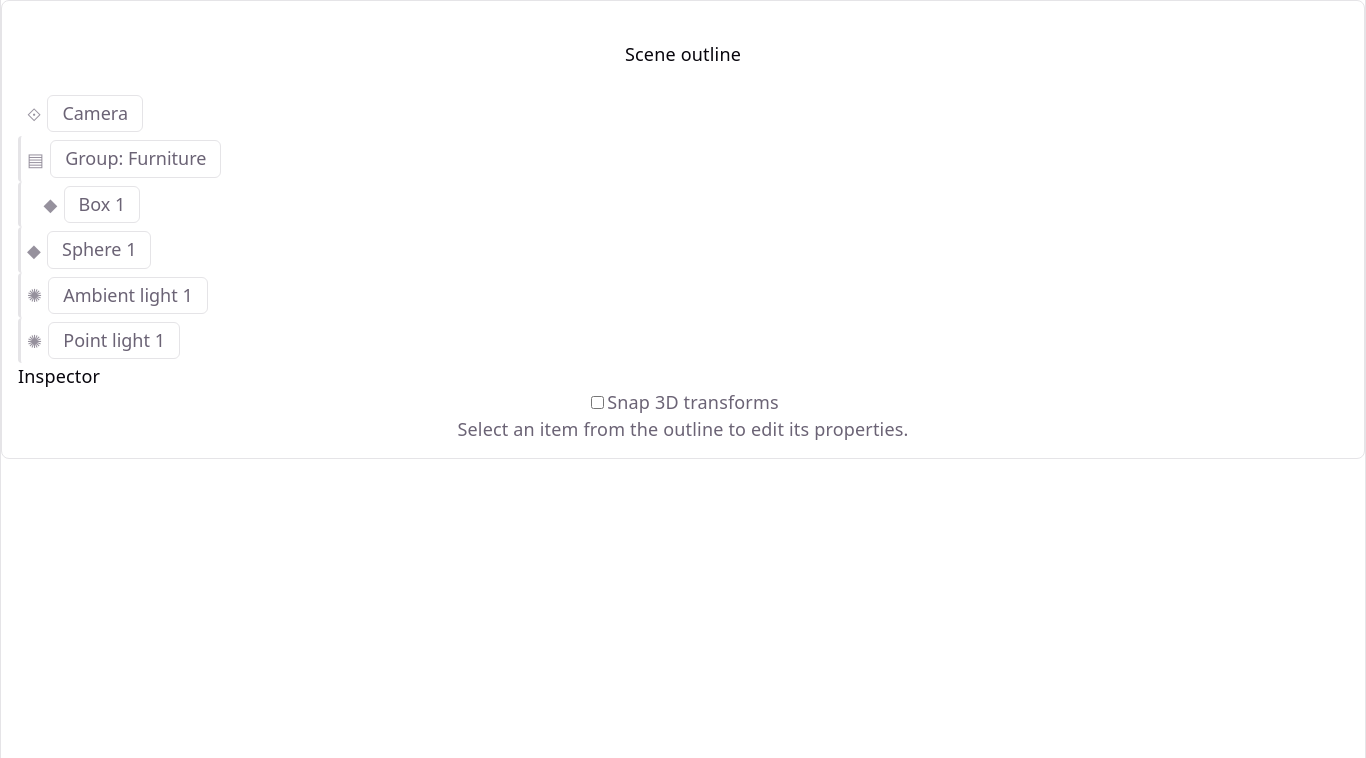
Test: Outline3DInspector › edits a group name and it is reflected in the outline list
Click the button "Group: Furniture" at (136, 159), box [50,140,222,178]
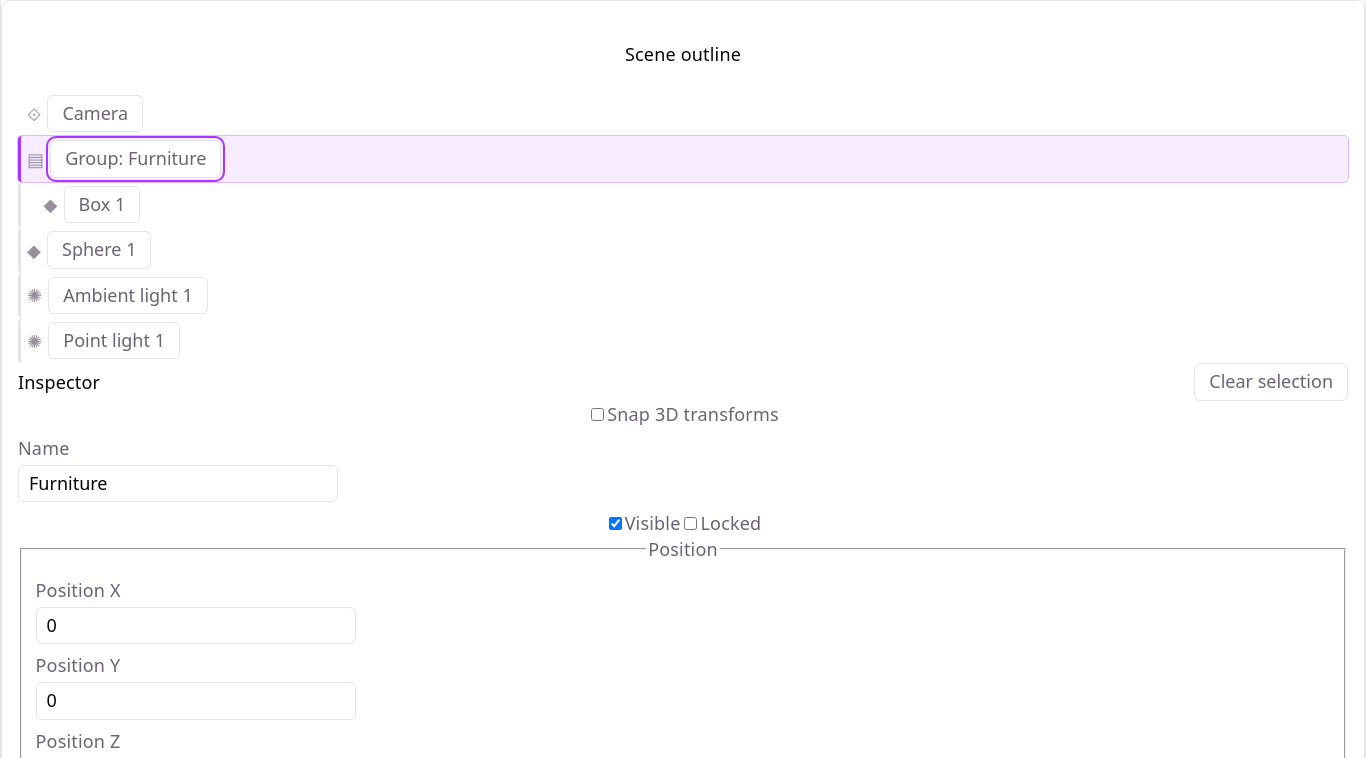
Replace the text in the field labelled "Name" with "Living room" at (178, 484), box [18,465,338,502]
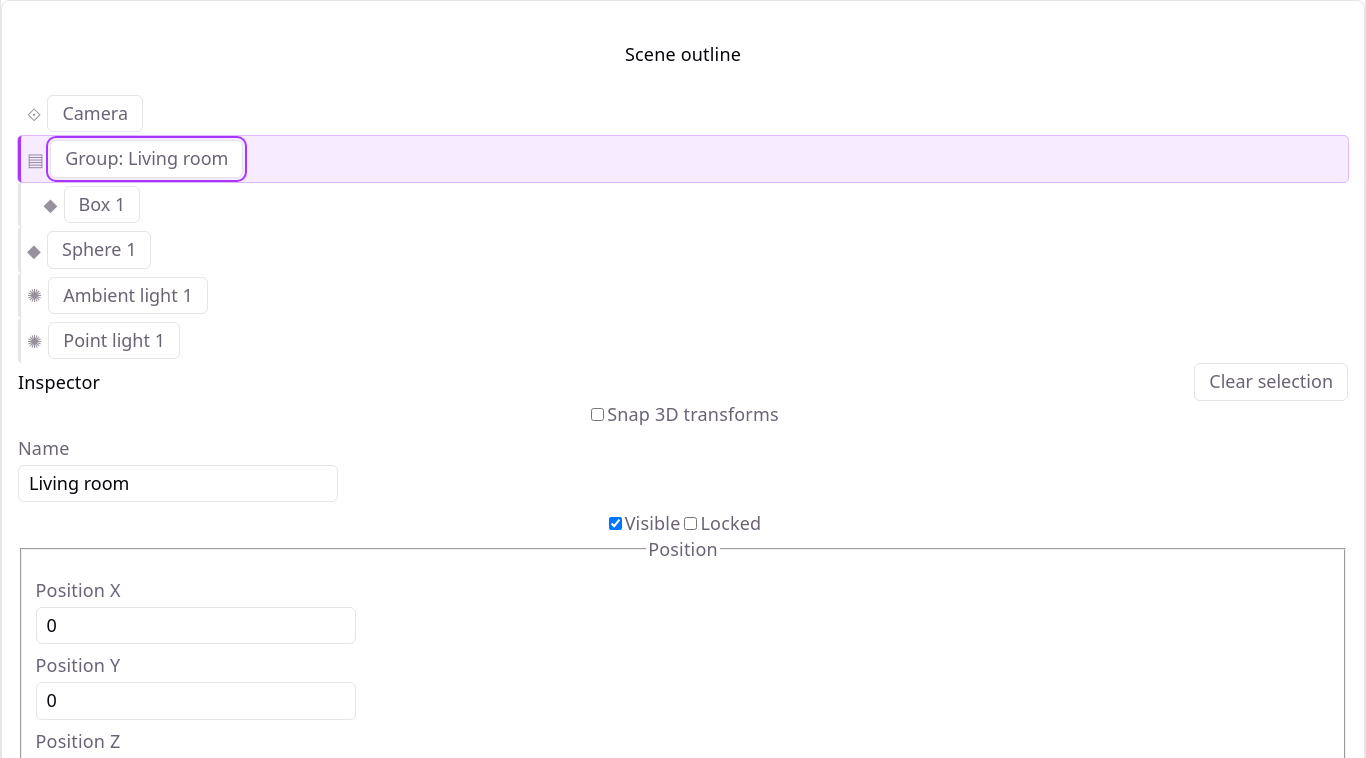
Expected: the list with test id "outline3d-list" shows "Group: Living room", [18,91,1348,363]
